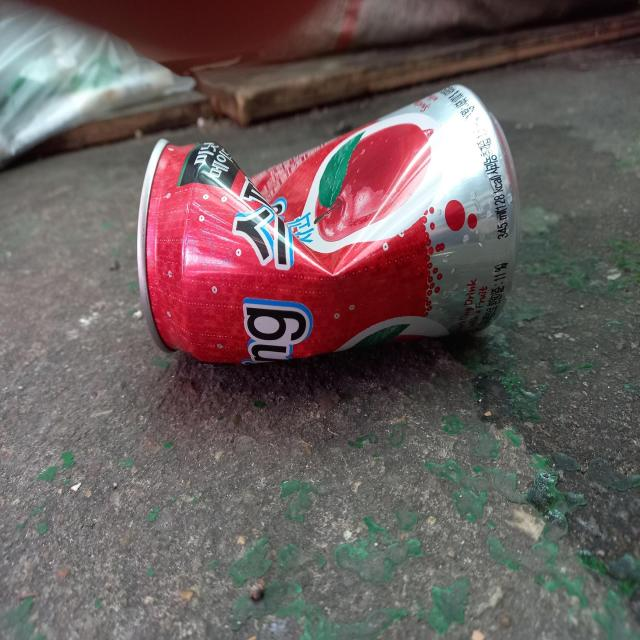can: (137, 83, 520, 363)
